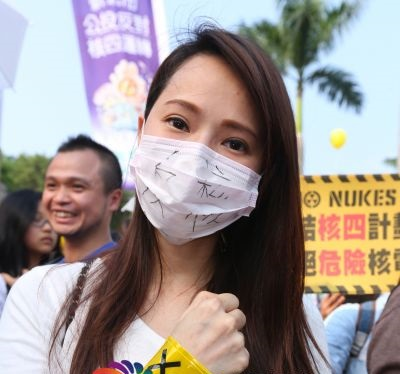face: (41, 152, 106, 235), (21, 204, 57, 251)
face_mask: (137, 61, 265, 230)
